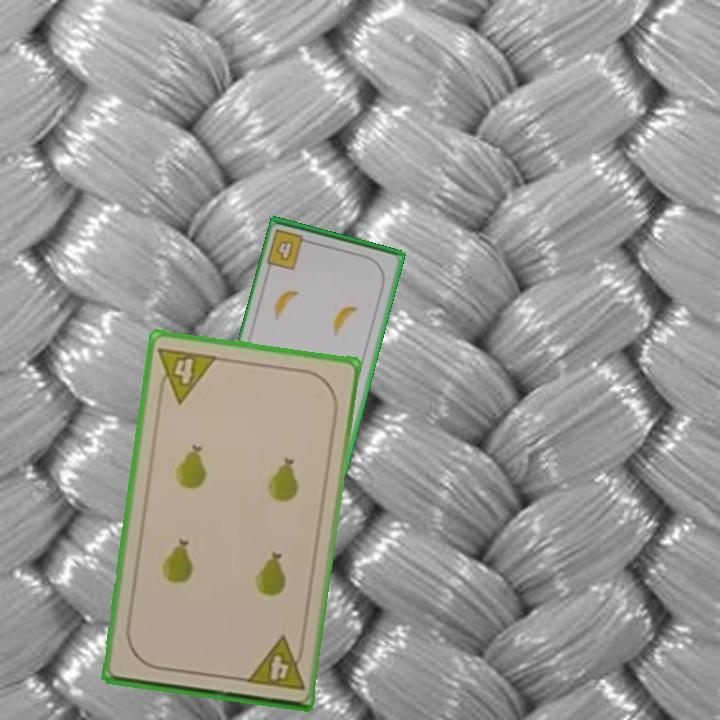4b: (264, 225, 315, 273)
4p: (153, 343, 220, 406), (242, 633, 307, 693)
